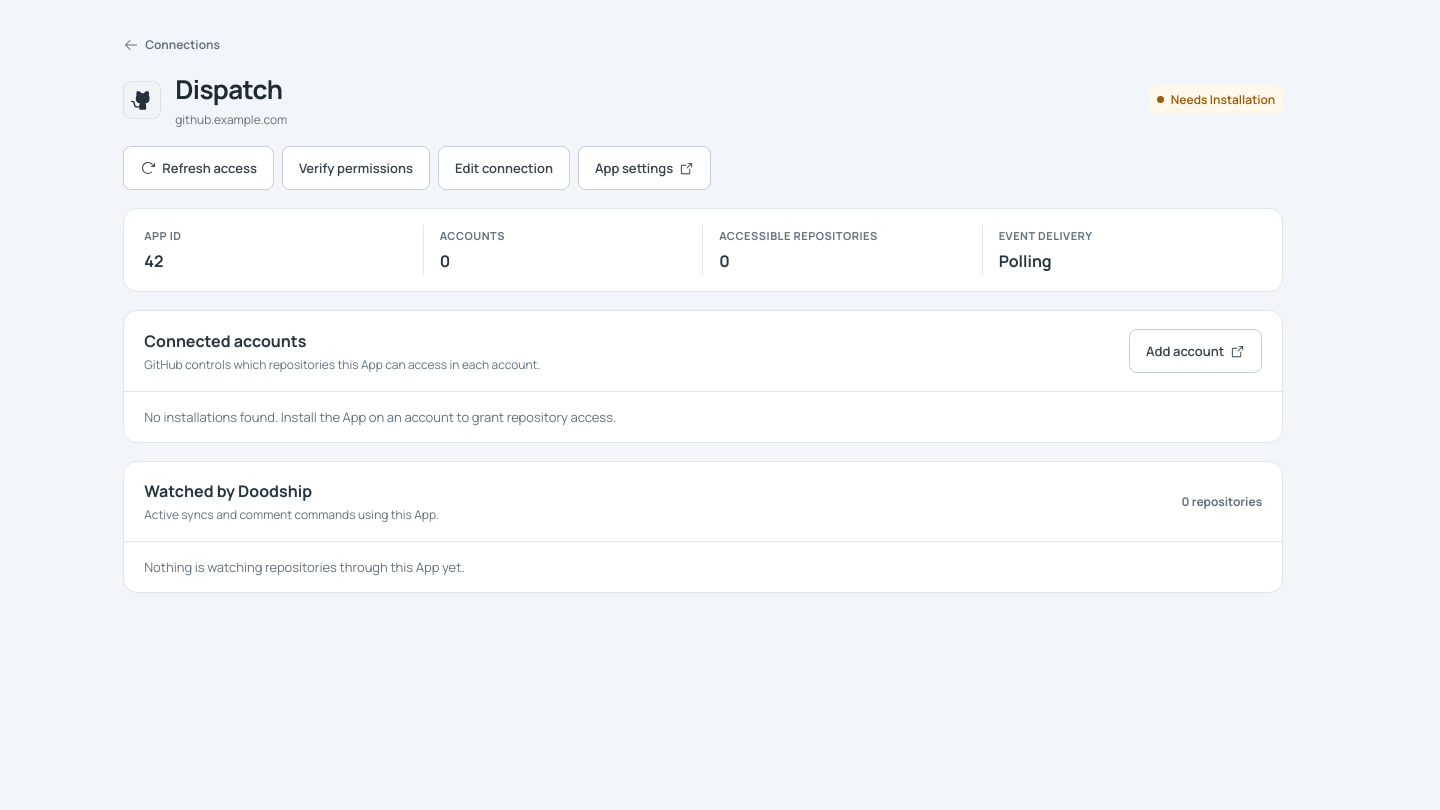
Test: connections page › shows missing App and installation access after verification
Click the button "Verify permissions".
click(356, 168)  # box [282,146,430,190]
(page scrolled)
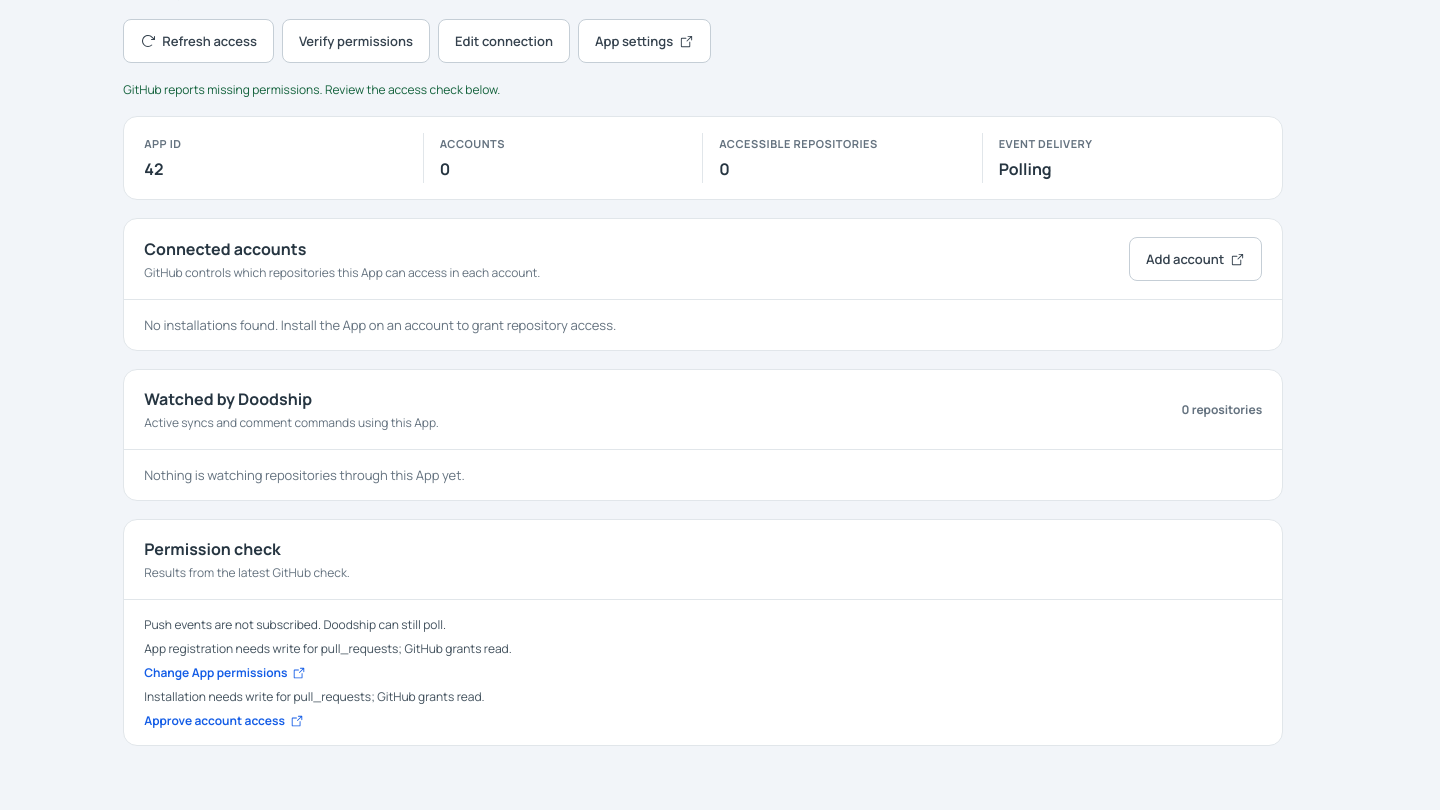
Now the text "App registration needs write for pull_requests; GitHub grants read." is shown, box [144,640,512,657]
Now the text "Installation needs write for pull_requests; GitHub grants read." is shown, box [144,688,485,705]
Now the link "Change App permissions" is shown, box [144,664,306,681]
